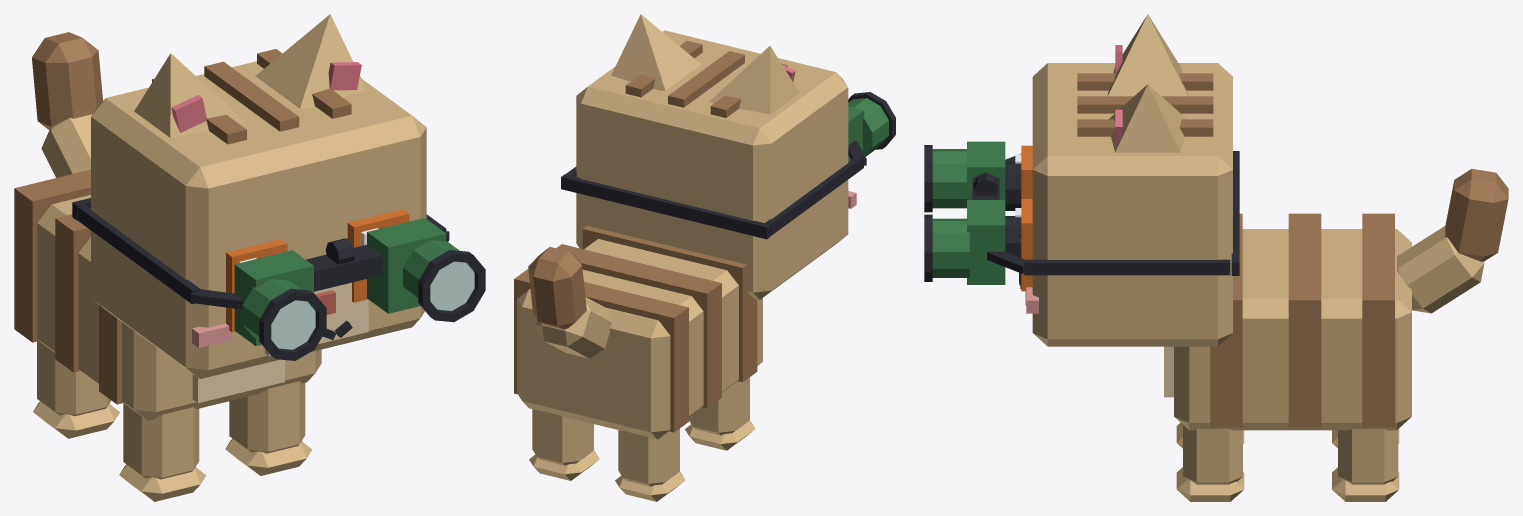
File: CatCafe_Cat_Birdwatch.glb
3 views of the same model, side by side, from view 1: azimuth 30°, elevation 25°; view 2: azimuth 150°, elevation 25°; view 3: azimuth 270°, elevation 25° (orthographic). The views are drawn at different scales.
Visible parts, largest first — view 1: CatCafe_Cat_Birdwatch_Head, CatCafe_Cat_Birdwatch_Body, CatCafe_Cat_Birdwatch_Prop, CatCafe_Cat_Birdwatch_Tail, CatCafe_Cat_Birdwatch_LegF2, CatCafe_Cat_Birdwatch_LegF1, CatCafe_Cat_Birdwatch_EarL, CatCafe_Cat_Birdwatch_LegB2, CatCafe_Cat_Birdwatch_EarR, CatCafe_Cat_Birdwatch_Prop_Glass, CatCafe_Cat_Birdwatch_Eye1, CatCafe_Cat_Birdwatch_Eye2; view 2: CatCafe_Cat_Birdwatch_Head, CatCafe_Cat_Birdwatch_Body, CatCafe_Cat_Birdwatch_Prop, CatCafe_Cat_Birdwatch_Tail, CatCafe_Cat_Birdwatch_LegB2, CatCafe_Cat_Birdwatch_LegB1, CatCafe_Cat_Birdwatch_EarL, CatCafe_Cat_Birdwatch_EarR, CatCafe_Cat_Birdwatch_LegF2; view 3: CatCafe_Cat_Birdwatch_Head, CatCafe_Cat_Birdwatch_Body, CatCafe_Cat_Birdwatch_Prop, CatCafe_Cat_Birdwatch_Tail, CatCafe_Cat_Birdwatch_LegB1, CatCafe_Cat_Birdwatch_LegF1, CatCafe_Cat_Birdwatch_EarR, CatCafe_Cat_Birdwatch_EarL, CatCafe_Cat_Birdwatch_Eye1, CatCafe_Cat_Birdwatch_Eye2.
Boxes of the visible parts, box(x1,y1,x2,y2) form: CatCafe_Cat_Birdwatch_Head: box(91, 49, 426, 378); CatCafe_Cat_Birdwatch_Body: box(14, 169, 321, 420); CatCafe_Cat_Birdwatch_Prop: box(72, 198, 485, 360); CatCafe_Cat_Birdwatch_Tail: box(32, 32, 102, 177); CatCafe_Cat_Birdwatch_LegF2: box(119, 403, 206, 501); CatCafe_Cat_Birdwatch_LegF1: box(225, 381, 312, 475); CatCafe_Cat_Birdwatch_EarL: box(255, 14, 366, 108); CatCafe_Cat_Birdwatch_LegB2: box(33, 341, 119, 438); CatCafe_Cat_Birdwatch_EarR: box(134, 53, 245, 137); CatCafe_Cat_Birdwatch_Prop_Glass: box(271, 261, 474, 349); CatCafe_Cat_Birdwatch_Eye1: box(347, 209, 409, 302); CatCafe_Cat_Birdwatch_Eye2: box(226, 239, 287, 332); CatCafe_Cat_Birdwatch_Head: box(576, 30, 856, 299); CatCafe_Cat_Birdwatch_Body: box(514, 225, 762, 439); CatCafe_Cat_Birdwatch_Prop: box(561, 92, 895, 239); CatCafe_Cat_Birdwatch_Tail: box(528, 247, 611, 358); CatCafe_Cat_Birdwatch_LegB2: box(615, 428, 685, 501); CatCafe_Cat_Birdwatch_LegB1: box(529, 409, 599, 480); CatCafe_Cat_Birdwatch_EarL: box(611, 14, 701, 90); CatCafe_Cat_Birdwatch_EarR: box(709, 46, 799, 114); CatCafe_Cat_Birdwatch_LegF2: box(685, 377, 755, 450); CatCafe_Cat_Birdwatch_Head: box(1019, 63, 1232, 346); CatCafe_Cat_Birdwatch_Body: box(1164, 213, 1411, 430); CatCafe_Cat_Birdwatch_Prop: box(924, 141, 1239, 284); CatCafe_Cat_Birdwatch_Tail: box(1397, 169, 1508, 313); CatCafe_Cat_Birdwatch_LegB1: box(1332, 429, 1399, 501); CatCafe_Cat_Birdwatch_LegF1: box(1176, 425, 1244, 501); CatCafe_Cat_Birdwatch_EarR: box(1107, 14, 1187, 96); CatCafe_Cat_Birdwatch_EarL: box(1109, 84, 1186, 152); CatCafe_Cat_Birdwatch_Eye1: box(1015, 199, 1032, 291); CatCafe_Cat_Birdwatch_Eye2: box(1015, 145, 1032, 198).
Bounding box in the file's own units: 1.07 × 1.86 × 2.33.
1 material, 1 textured.
